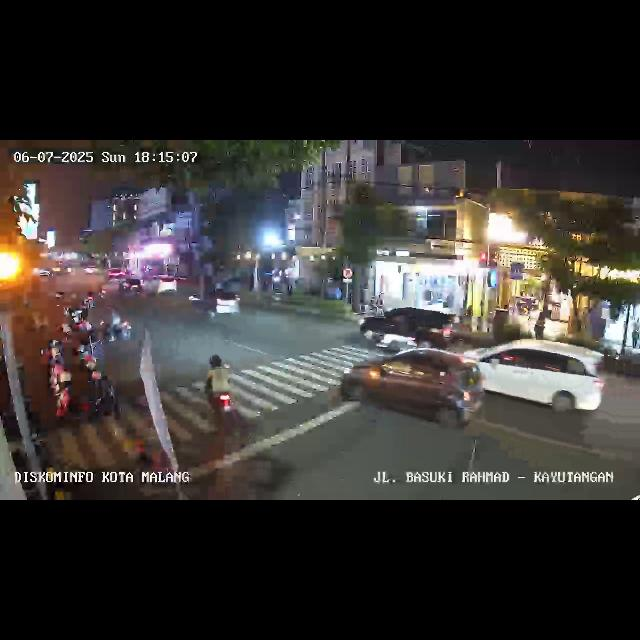car: (334, 343, 482, 433), (467, 338, 605, 418), (358, 303, 454, 355), (188, 284, 242, 320), (110, 274, 144, 298), (153, 274, 179, 298)
motorcycle: (204, 354, 238, 426), (101, 308, 131, 346)
person: (534, 310, 544, 340), (632, 318, 640, 349)
